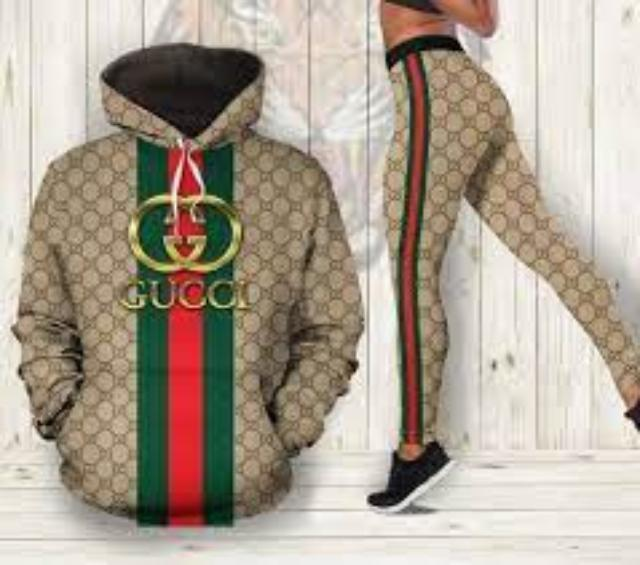Gucci: (123, 186, 253, 276), (105, 272, 268, 318)
